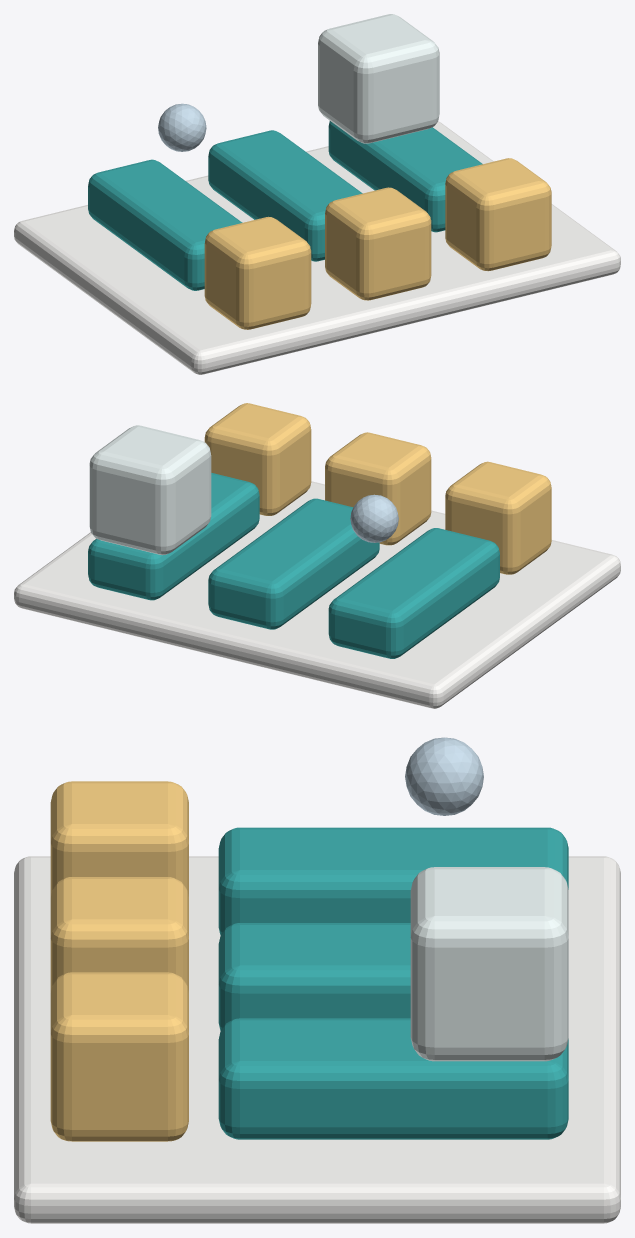
Rendered from algebra-kit.glb.
3 renders of one model, top to bottom at view 1: azimuth 30°, elevation 25°; view 2: azimuth 150°, elevation 25°; view 3: azimuth 270°, elevation 25°, orthographic. The views are drawn at different scales.
Parts seen in each view (by area): view 1: base, comparison_cube, algebra_rod_0, unit_0, algebra_rod_1, unit_1, unit_2, algebra_rod_2, insight; view 2: base, algebra_rod_0, comparison_cube, algebra_rod_1, algebra_rod_2, unit_0, unit_2, unit_1, insight; view 3: base, algebra_rod_2, comparison_cube, algebra_rod_0, unit_2, algebra_rod_1, unit_1, unit_0, insight.
Part boxes in pixels (<box>): base: <box>14,121,620,374</box>; comparison_cube: <box>318,14,439,143</box>; algebra_rod_0: <box>88,159,242,290</box>; unit_0: <box>204,216,311,329</box>; algebra_rod_1: <box>208,130,362,261</box>; unit_1: <box>325,187,431,300</box>; unit_2: <box>445,158,551,271</box>; algebra_rod_2: <box>328,121,482,232</box>; insight: <box>158,103,206,151</box>; base: <box>14,481,620,708</box>; algebra_rod_0: <box>328,528,499,658</box>; comparison_cube: <box>89,425,211,555</box>; algebra_rod_1: <box>208,498,379,629</box>; algebra_rod_2: <box>88,473,259,600</box>; unit_0: <box>445,461,551,574</box>; unit_2: <box>204,403,311,515</box>; unit_1: <box>325,432,431,545</box>; insight: <box>350,494,398,542</box>; base: <box>14,856,620,1223</box>; algebra_rod_2: <box>218,1018,568,1139</box>; comparison_cube: <box>410,867,568,1061</box>; algebra_rod_0: <box>218,827,568,935</box>; unit_2: <box>50,972,188,1141</box>; algebra_rod_1: <box>218,923,410,1030</box>; unit_1: <box>50,877,188,992</box>; unit_0: <box>50,781,188,896</box>; insight: <box>405,737,483,815</box>.
Bounding box in the file's own units: 2.85 × 1 × 2.15.
